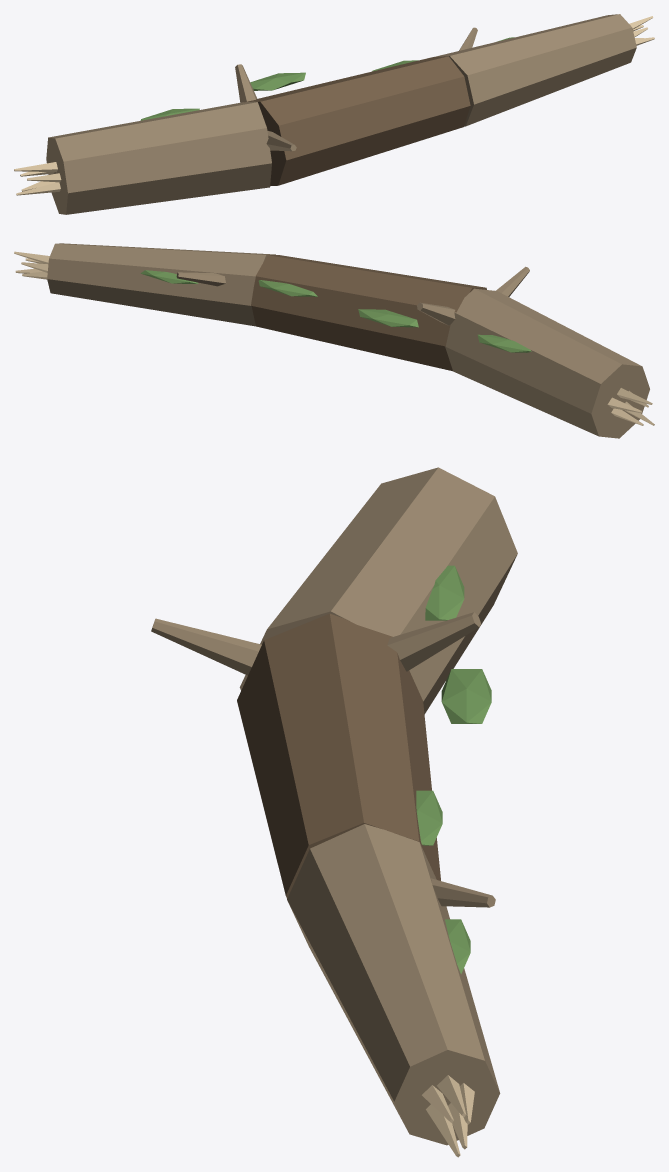
File: broken_tree_02.glb
3 renders of one model, top to bottom at view 1: azimuth 30°, elevation 25°; view 2: azimuth 150°, elevation 25°; view 3: azimuth 270°, elevation 25°, orthographic. The views are drawn at different scales.
Parts seen in each view (by area): view 1: broken_tree_02_trunk_segment_1, broken_tree_02_trunk_segment_2, broken_tree_02_trunk_segment_3, broken_tree_02_moss_patch_2, broken_tree_02_branch_stub_1, broken_tree_02_branch_stub_2, broken_tree_02_splinter_1_4; view 2: broken_tree_02_trunk_segment_1, broken_tree_02_trunk_segment_2, broken_tree_02_trunk_segment_3, broken_tree_02_moss_patch_2, broken_tree_02_moss_patch_1, broken_tree_02_moss_patch_3, broken_tree_02_branch_stub_1, broken_tree_02_branch_stub_3, broken_tree_02_branch_stub_2, broken_tree_02_moss_patch_4; view 3: broken_tree_02_trunk_segment_3, broken_tree_02_trunk_segment_2, broken_tree_02_trunk_segment_1, broken_tree_02_branch_stub_2, broken_tree_02_branch_stub_1, broken_tree_02_moss_patch_2, broken_tree_02_moss_patch_1, broken_tree_02_moss_patch_3, broken_tree_02_branch_stub_3.
Part boxes in pixels (<box>): broken_tree_02_trunk_segment_1: <box>46,101,271,214</box>; broken_tree_02_trunk_segment_2: <box>244,56,470,186</box>; broken_tree_02_trunk_segment_3: <box>434,14,636,126</box>; broken_tree_02_moss_patch_2: <box>250,72,305,90</box>; broken_tree_02_branch_stub_1: <box>235,64,257,102</box>; broken_tree_02_branch_stub_2: <box>266,130,296,151</box>; broken_tree_02_splinter_1_4: <box>16,182,60,195</box>; broken_tree_02_trunk_segment_1: <box>445,288,649,438</box>; broken_tree_02_trunk_segment_2: <box>251,255,486,371</box>; broken_tree_02_trunk_segment_3: <box>47,243,275,326</box>; broken_tree_02_moss_patch_2: <box>358,309,418,327</box>; broken_tree_02_moss_patch_1: <box>477,334,531,352</box>; broken_tree_02_moss_patch_3: <box>258,280,317,296</box>; broken_tree_02_branch_stub_1: <box>417,302,455,325</box>; broken_tree_02_branch_stub_3: <box>176,272,225,286</box>; broken_tree_02_branch_stub_2: <box>496,266,529,296</box>; broken_tree_02_moss_patch_4: <box>140,270,198,283</box>; broken_tree_02_trunk_segment_3: <box>287,824,500,1145</box>; broken_tree_02_trunk_segment_2: <box>237,613,440,898</box>; broken_tree_02_trunk_segment_1: <box>239,467,517,714</box>; broken_tree_02_branch_stub_2: <box>151,618,261,675</box>; broken_tree_02_branch_stub_1: <box>387,612,480,671</box>; broken_tree_02_moss_patch_2: <box>441,669,491,723</box>; broken_tree_02_moss_patch_1: <box>425,565,464,620</box>; broken_tree_02_moss_patch_3: <box>416,790,442,845</box>; broken_tree_02_branch_stub_3: <box>431,878,495,907</box>.
Size of the model in its own units: 6.01 by 0.8646 by 1.5.
